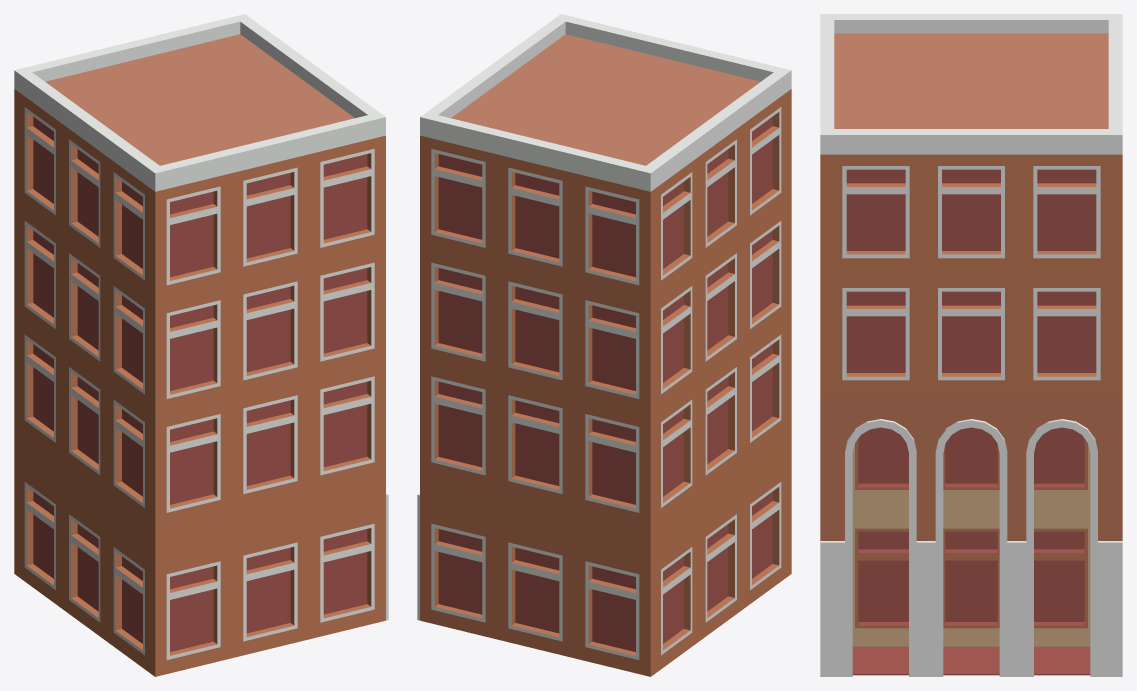
3 views of the same model, side by side, from view 1: azimuth 30°, elevation 25°; view 2: azimuth 150°, elevation 25°; view 3: azimuth 270°, elevation 25° (orthographic). The views are drawn at different scales.
Visible parts, largest first — view 1: finestre_lato_alte, finestre_retro_alte, porticato.001, finestre_lato_basse, finestre_retro_basse; view 2: finestre_lato_alte, finestre_retro_alte, porticato.001, finestre_lato_basse, finestre_retro_basse; view 3: porticato.001, finestre_fronte, porticato.002, Plane.
Boxes of the visible parts, left/top/right/bottom form: finestre_lato_alte: left=155, top=135, right=385, bottom=532; finestre_retro_alte: left=14, top=89, right=155, bottom=532; porticato.001: left=14, top=14, right=388, bottom=620; finestre_lato_basse: left=155, top=477, right=385, bottom=676; finestre_retro_basse: left=14, top=430, right=155, bottom=676; finestre_lato_alte: left=420, top=135, right=650, bottom=532; finestre_retro_alte: left=650, top=89, right=791, bottom=532; porticato.001: left=417, top=14, right=791, bottom=620; finestre_lato_basse: left=420, top=477, right=650, bottom=676; finestre_retro_basse: left=650, top=430, right=791, bottom=676; porticato.001: left=820, top=14, right=1122, bottom=676; finestre_fronte: left=820, top=154, right=1122, bottom=398; porticato.002: left=852, top=427, right=1090, bottom=646; Plane: left=852, top=646, right=1090, bottom=675.
Bounding box in the file's own units: 62.07 × 128 × 64.88.
1 material, 1 textured.
